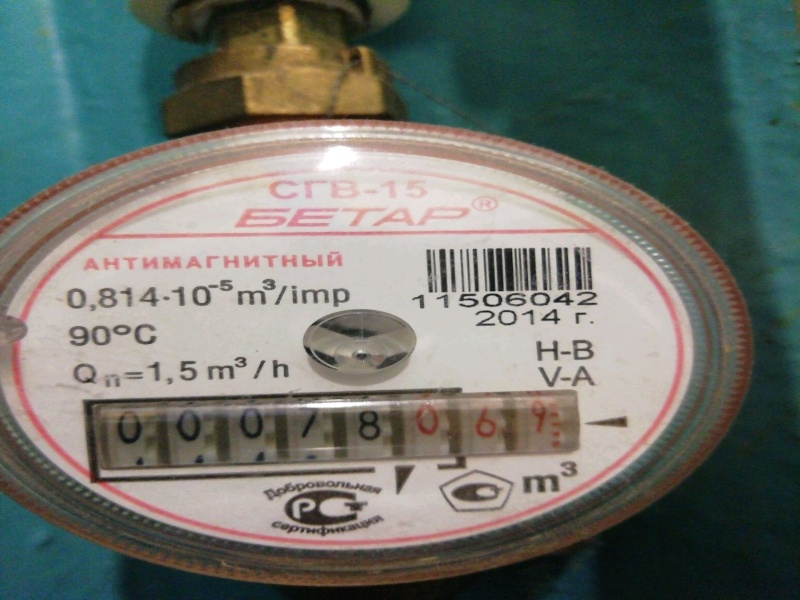meter: (76, 394, 566, 457)
